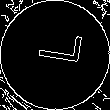L_W: (28, 36, 82, 74)
